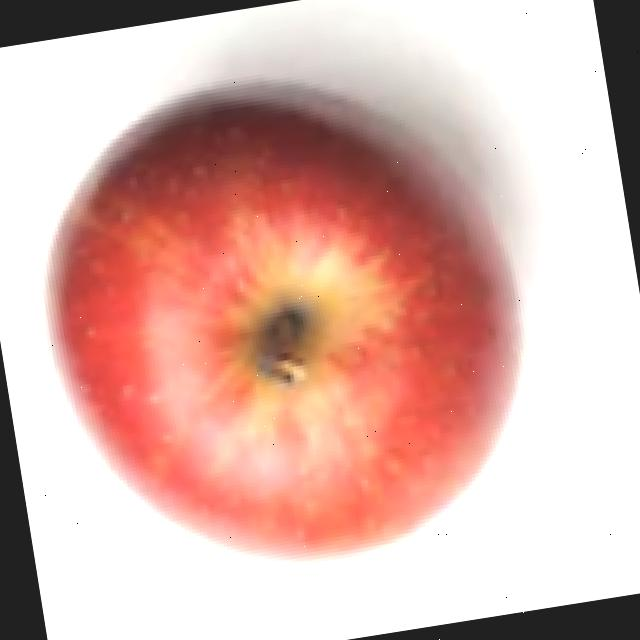Ripe: (2, 41, 564, 608)
